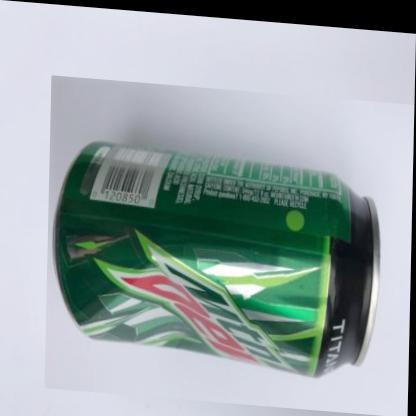trash: (55, 142, 378, 375)
